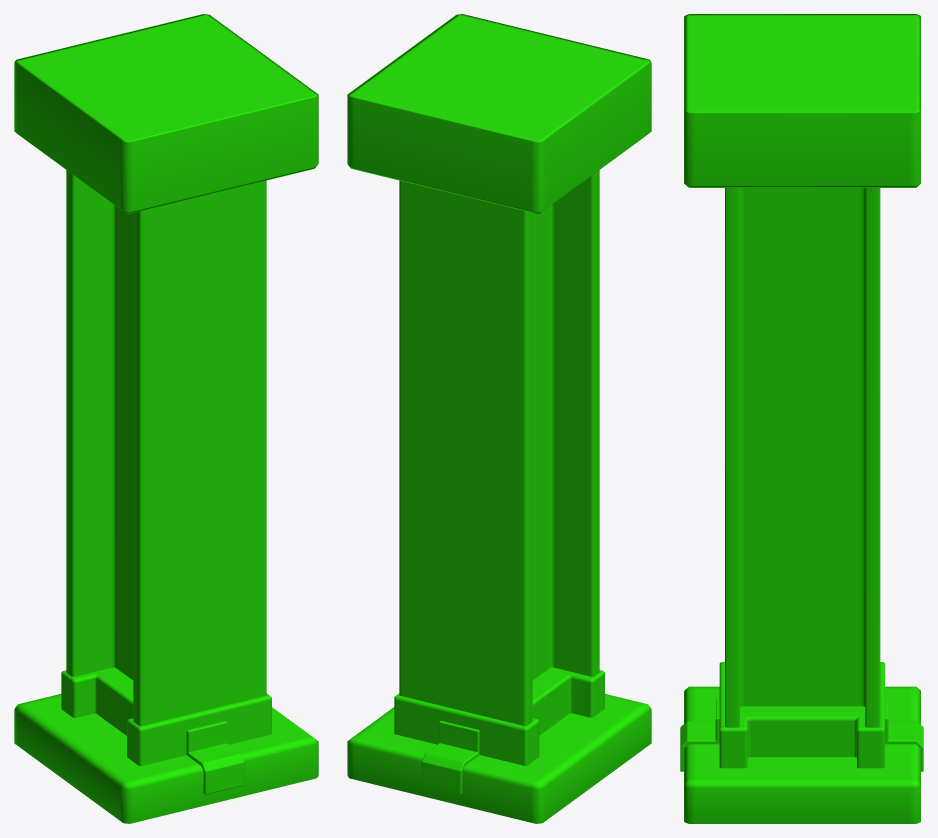
File: Metal_Construction01.fbx
The picture shows the model from 3 angles, left to right: view 1: azimuth 30°, elevation 25°; view 2: azimuth 150°, elevation 25°; view 3: azimuth 270°, elevation 25°; orthographic projection. The views are drawn at different scales.
Visible parts, largest first — view 1: SM_Metal_Construction01; view 2: SM_Metal_Construction01; view 3: SM_Metal_Construction01.
Part boxes in pixels (x1=…): SM_Metal_Construction01: x1=14, y1=14, x2=318, y2=823; SM_Metal_Construction01: x1=347, y1=14, x2=651, y2=823; SM_Metal_Construction01: x1=680, y1=14, x2=923, y2=823.
Bounding box in the file's own units: 0.6 × 2 × 0.6213.
